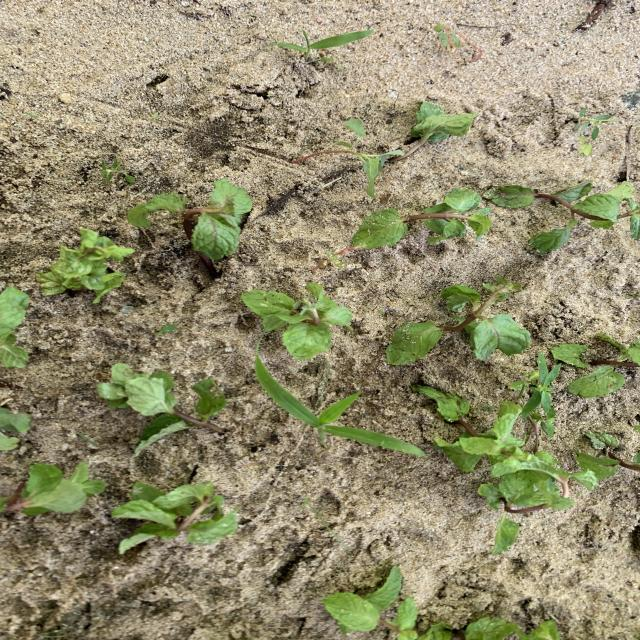crop: (413, 386, 615, 514), (386, 277, 529, 363), (482, 181, 640, 254), (98, 363, 226, 452), (129, 178, 251, 261), (323, 566, 449, 639), (113, 482, 237, 553), (242, 283, 351, 359), (352, 189, 491, 248), (35, 230, 134, 302), (552, 335, 639, 396), (1, 463, 105, 514), (402, 101, 476, 159), (1, 288, 29, 366), (1, 409, 31, 450), (461, 617, 512, 639), (493, 514, 519, 554)
weed: (255, 356, 424, 456), (291, 119, 404, 199), (510, 352, 561, 437), (269, 29, 373, 64), (573, 109, 611, 154), (312, 508, 347, 548), (434, 23, 462, 50), (314, 251, 346, 269), (101, 157, 122, 183), (79, 434, 95, 446), (159, 324, 177, 333), (124, 171, 134, 181), (320, 57, 334, 63), (28, 112, 39, 118), (151, 113, 158, 118)
